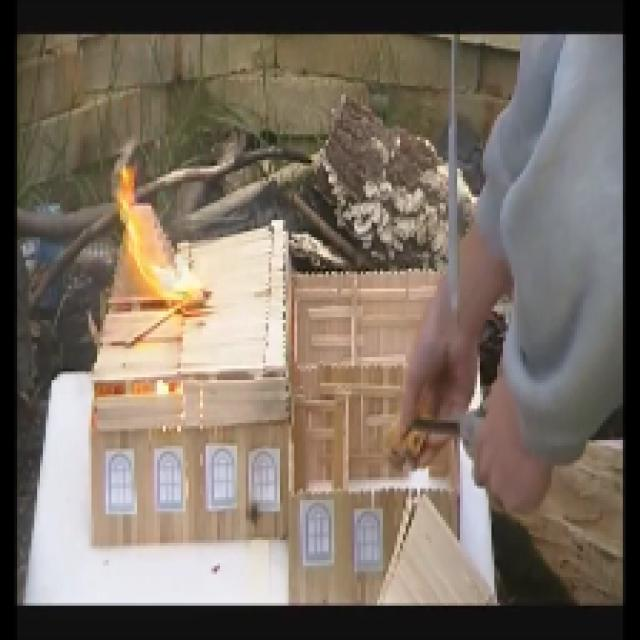fire: (102, 181, 208, 312)
